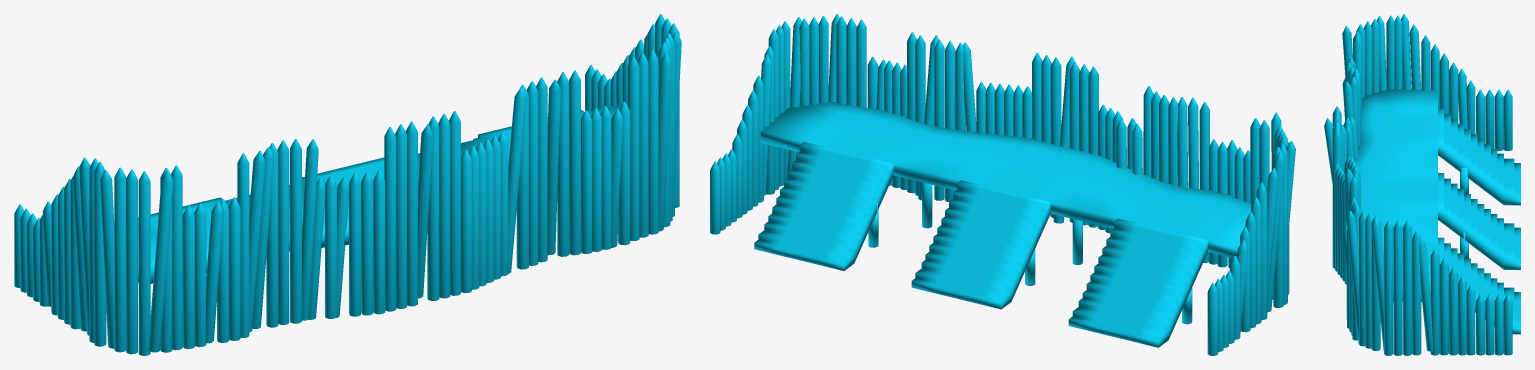
Rendered from StockadeDamaged.fbx.
The picture shows the model from 3 angles, left to right: view 1: azimuth 30°, elevation 25°; view 2: azimuth 150°, elevation 25°; view 3: azimuth 270°, elevation 25°; orthographic projection. The views are drawn at different scales.
Visible parts, largest first — view 1: Platform_low, Stake_low045, Stake_low046, Stake_low, Stake_low048, Stake_low005, Stake_low032, Stake_low047, Stake_low023, Stake_low024, Stake_low031, Stake_low025 (+62 smaller); view 2: Platform_low, Stairs_low002, Stairs_low001, Stairs_low, Stake_low029, Stake_low028, Stake_low066, Stake_low004, Stake_low031, Stake_low059, Stake_low020, Stake_low064 (+62 smaller); view 3: Platform_low, Stairs_low, Stairs_low002, Stairs_low001, Stake_low061, Stake_low060, Stake_low062, Stake_low076, Stake_low077, Stake_low079, Stake_low078, Stake_low057 (+52 smaller).
Part boxes in pixels (x1,y1,x2,y2): Platform_low: (138, 102, 627, 283); Stake_low045: (148, 170, 173, 352); Stake_low046: (138, 171, 150, 355); Stake_low: (384, 127, 396, 311); Stake_low048: (114, 167, 126, 352); Stake_low005: (438, 113, 450, 298); Stake_low032: (569, 70, 580, 255); Stake_low047: (126, 169, 137, 354); Stake_low023: (277, 140, 289, 324); Stake_low024: (290, 139, 301, 323); Stake_low031: (557, 72, 569, 256); Stake_low025: (302, 139, 318, 320); Platform_low: (760, 101, 1251, 257); Stairs_low002: (1068, 218, 1207, 347); Stairs_low001: (754, 142, 893, 270); Stairs_low: (911, 180, 1050, 309); Stake_low029: (934, 39, 944, 200); Stake_low028: (945, 41, 955, 201); Stake_low066: (1256, 182, 1267, 319); Stake_low004: (1050, 57, 1061, 218); Stake_low031: (915, 35, 925, 195); Stake_low059: (787, 17, 801, 178); Stake_low020: (1188, 97, 1198, 189); Stake_low064: (1267, 151, 1284, 312); Platform_low: (1343, 88, 1437, 302); Stairs_low: (1438, 173, 1520, 269); Stairs_low002: (1438, 108, 1520, 205); Stairs_low001: (1438, 237, 1520, 334); Stake_low061: (1393, 220, 1402, 355); Stake_low060: (1384, 220, 1393, 355); Stake_low062: (1403, 220, 1411, 355); Stake_low076: (1412, 230, 1421, 355); Stake_low077: (1419, 236, 1433, 351); Stake_low079: (1439, 257, 1448, 355); Stake_low078: (1430, 248, 1439, 355); Stake_low057: (1365, 213, 1373, 348).
Size of the model in its own units: 17040 by 5273 by 6728.
